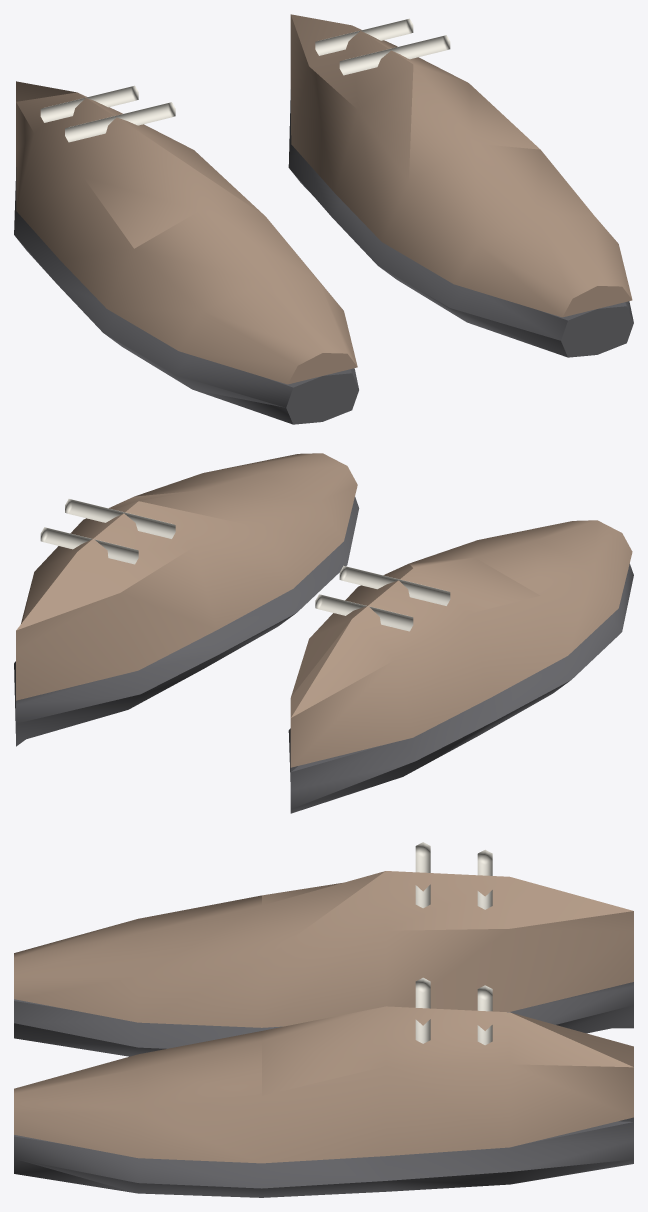
The model's file is shoes.lod2.glb.
3 renders of one model, top to bottom at view 1: azimuth 30°, elevation 25°; view 2: azimuth 150°, elevation 25°; view 3: azimuth 270°, elevation 25°, orthographic.
Parts seen in each view (by area): view 1: Shoe_R, Shoe_L; view 2: Shoe_L, Shoe_R; view 3: Shoe_R, Shoe_L.
Part boxes in pixels (bbox=[...]): Shoe_R: bbox=[288, 14, 633, 357]; Shoe_L: bbox=[14, 81, 358, 424]; Shoe_L: bbox=[288, 520, 633, 813]; Shoe_R: bbox=[14, 453, 359, 746]; Shoe_R: bbox=[14, 977, 633, 1197]; Shoe_L: bbox=[14, 842, 633, 1056].
Size of the model in its own units: 0.2559 by 0.083 by 0.29.
